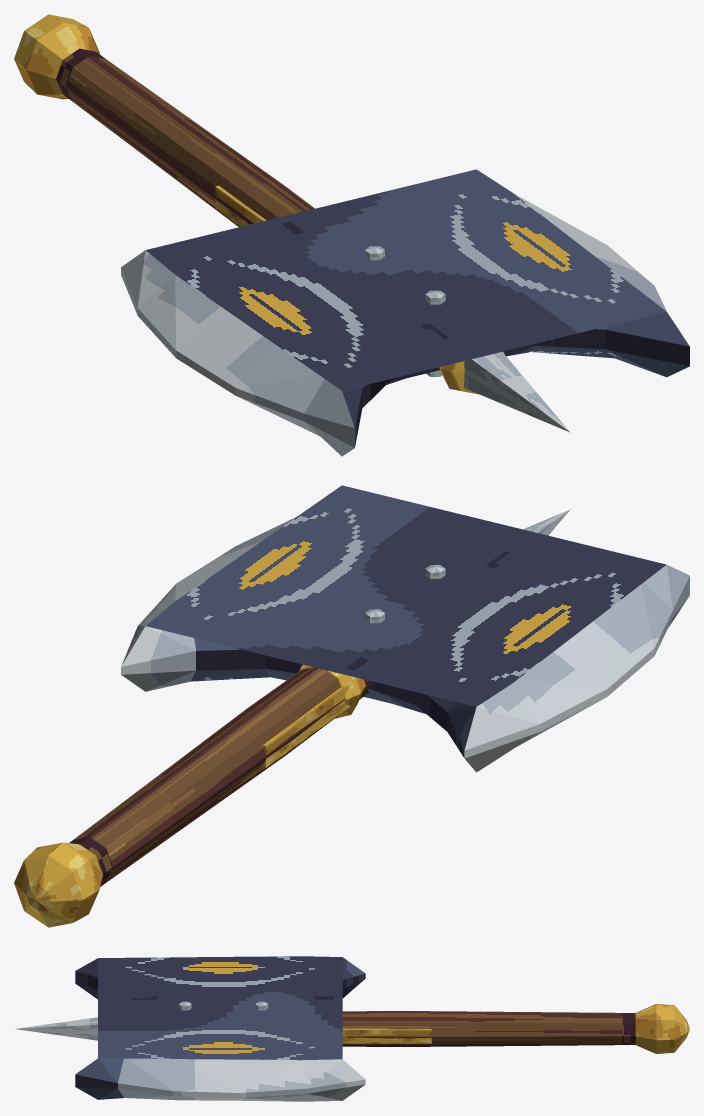
Rendered from axt-b-doppelaxt.glb.
The picture shows the model from 3 angles, top to bottom: view 1: azimuth 30°, elevation 25°; view 2: azimuth 150°, elevation 25°; view 3: azimuth 270°, elevation 25°; orthographic projection. The views are drawn at different scales.
Parts seen in each view (by area): view 1: axe; view 2: axe; view 3: axe.
Part boxes in pixels (left/top/right/bottom): axe: left=14, top=14, right=689, bottom=456; axe: left=14, top=485, right=689, bottom=927; axe: left=15, top=956, right=689, bottom=1101.
Bounding box in the file's own units: 0.3708 × 0.0686 × 0.7956.
1 material, 1 textured.
